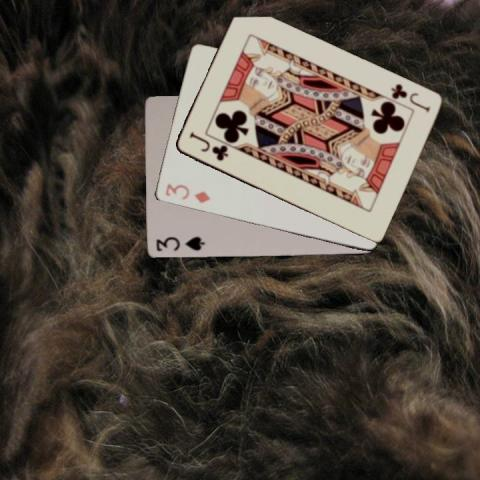3d: (162, 180, 211, 205)
3s: (153, 234, 204, 253)
Jc: (186, 130, 230, 163), (388, 81, 432, 114)
